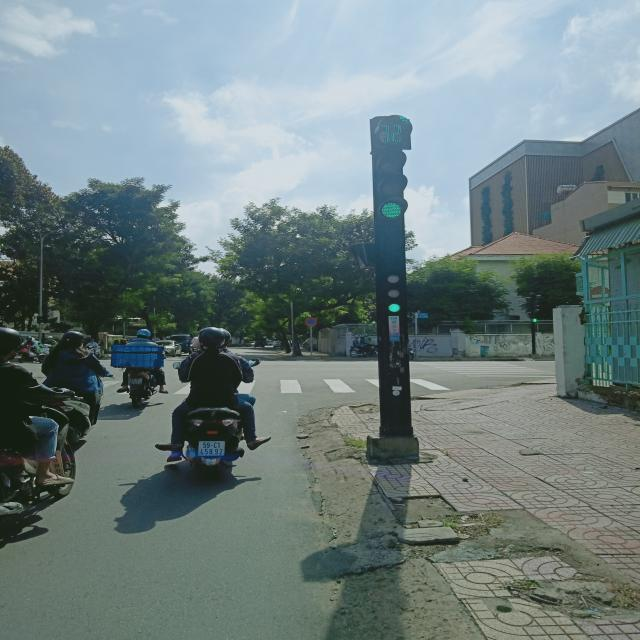Green: (363, 150, 413, 220), (380, 263, 413, 314)
